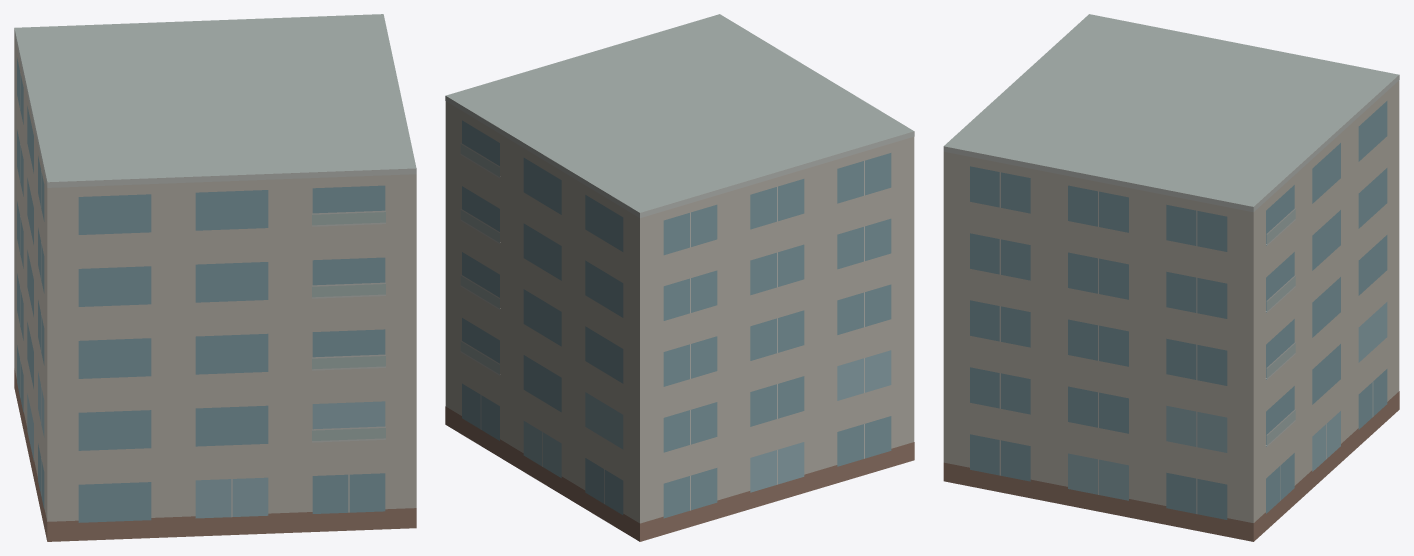
Rendered from survey-upis-32555542.glb.
The picture shows the model from 3 angles, left to right: view 1: azimuth 30°, elevation 25°; view 2: azimuth 150°, elevation 25°; view 3: azimuth 270°, elevation 25°; orthographic projection. The views are drawn at different scales.
Visible parts, largest first — view 1: survey-upis-32555542.tmp; view 2: survey-upis-32555542.tmp; view 3: survey-upis-32555542.tmp.
Part boxes in pixels (left/top/right/bottom): survey-upis-32555542.tmp: left=14, top=14, right=416, bottom=541; survey-upis-32555542.tmp: left=445, top=14, right=914, bottom=541; survey-upis-32555542.tmp: left=943, top=14, right=1399, bottom=541.
Size of the model in its own units: 18.85 by 15.25 by 18.82.
